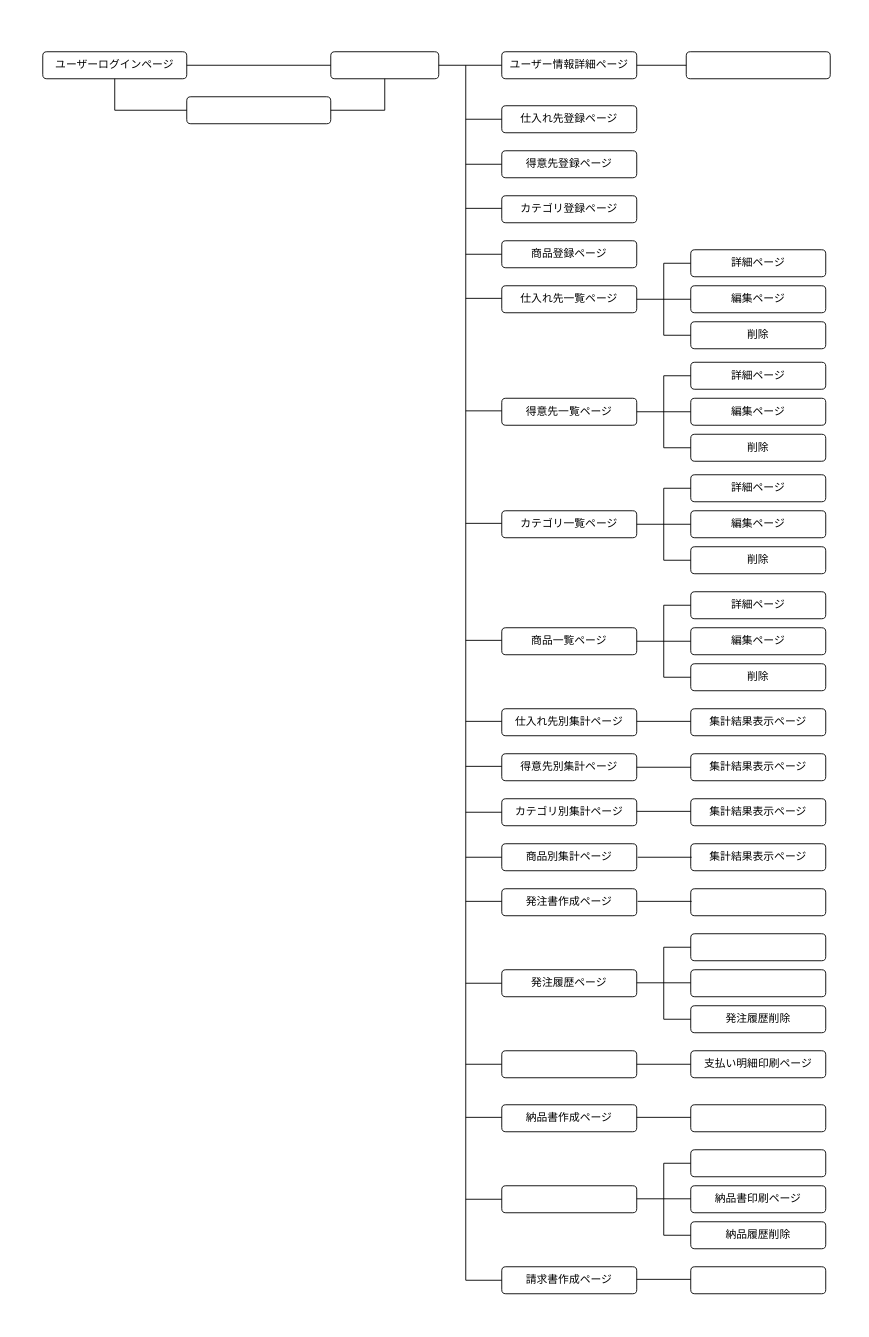
This 869x1337 diagram has some shape labels left out. Each missing label, with the centre of its shape:
トップページ: the point at 384,65
ユーザー情報編集ページ: the point at 757,65
ユーザー新規登録ページ: the point at 258,110
支払い明細作成ページ: the point at 569,1064
発注内容入力ページ: the point at 758,902
発注内容編集ページ: the point at 758,947
発注書印刷ページ: the point at 758,983
納品内容入力ページ: the point at 758,1118
納品内容編集ページ: the point at 758,1163
納品履歴ページ: the point at 569,1199
請求書印刷ページ: the point at 758,1280
